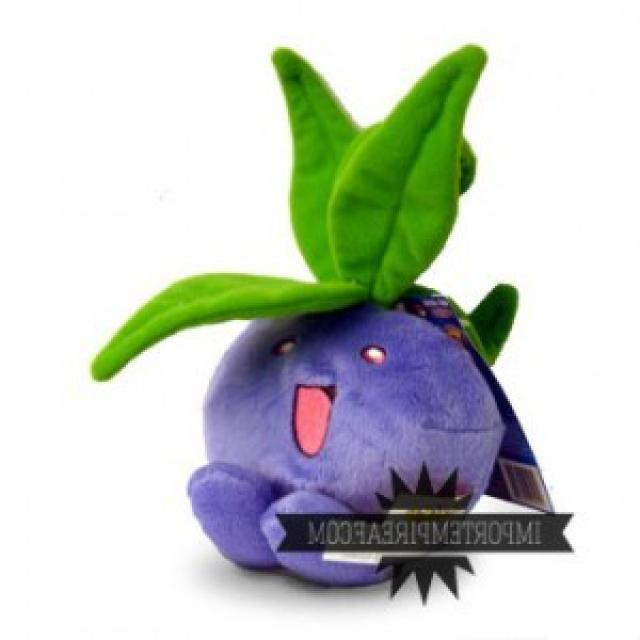Oddish: (185, 102, 511, 572)
